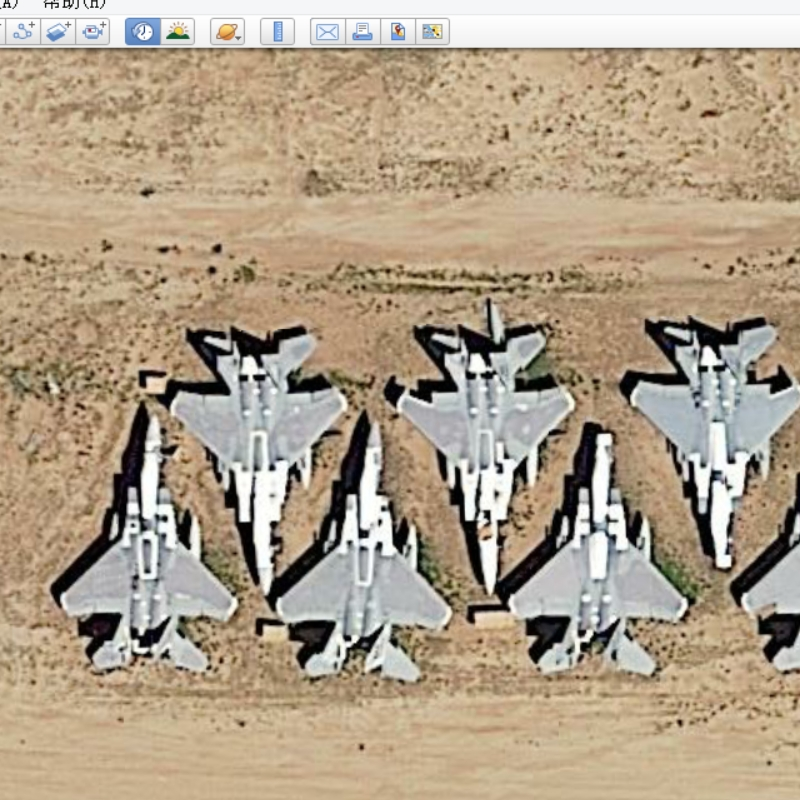A13: (392, 292, 586, 598), (55, 399, 251, 684), (166, 314, 349, 599), (269, 404, 452, 689), (504, 415, 693, 684), (624, 304, 800, 583)
